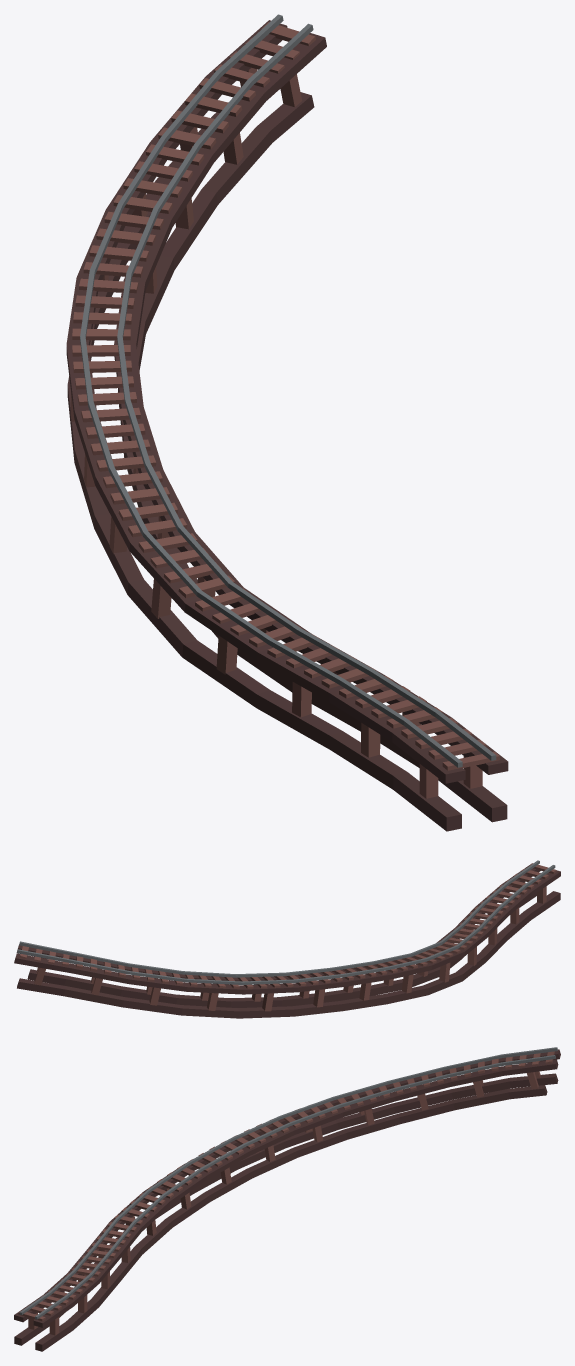
File: DarkRoseWoodMechLargeSlopedTrackSection2.fbx
3 renders of one model, top to bottom at view 1: azimuth 30°, elevation 25°; view 2: azimuth 150°, elevation 25°; view 3: azimuth 330°, elevation 25°, orthographic. The views are drawn at different scales.
Parts seen in each view (by area): view 1: DarkRoseWoodMechLargeSlopedTrackSection2; view 2: DarkRoseWoodMechLargeSlopedTrackSection2; view 3: DarkRoseWoodMechLargeSlopedTrackSection2.
Boxes of the visible parts, left/top/right/bottom form: DarkRoseWoodMechLargeSlopedTrackSection2: left=66, top=14, right=508, bottom=831; DarkRoseWoodMechLargeSlopedTrackSection2: left=14, top=860, right=560, bottom=1018; DarkRoseWoodMechLargeSlopedTrackSection2: left=14, top=1047, right=560, bottom=1351.
Size of the model in its own units: 1806 by 821 by 3847.
